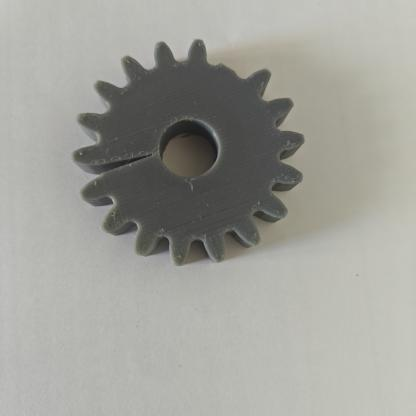defect: (56, 128, 181, 214), (187, 25, 282, 101)
gear: (34, 22, 336, 280)
